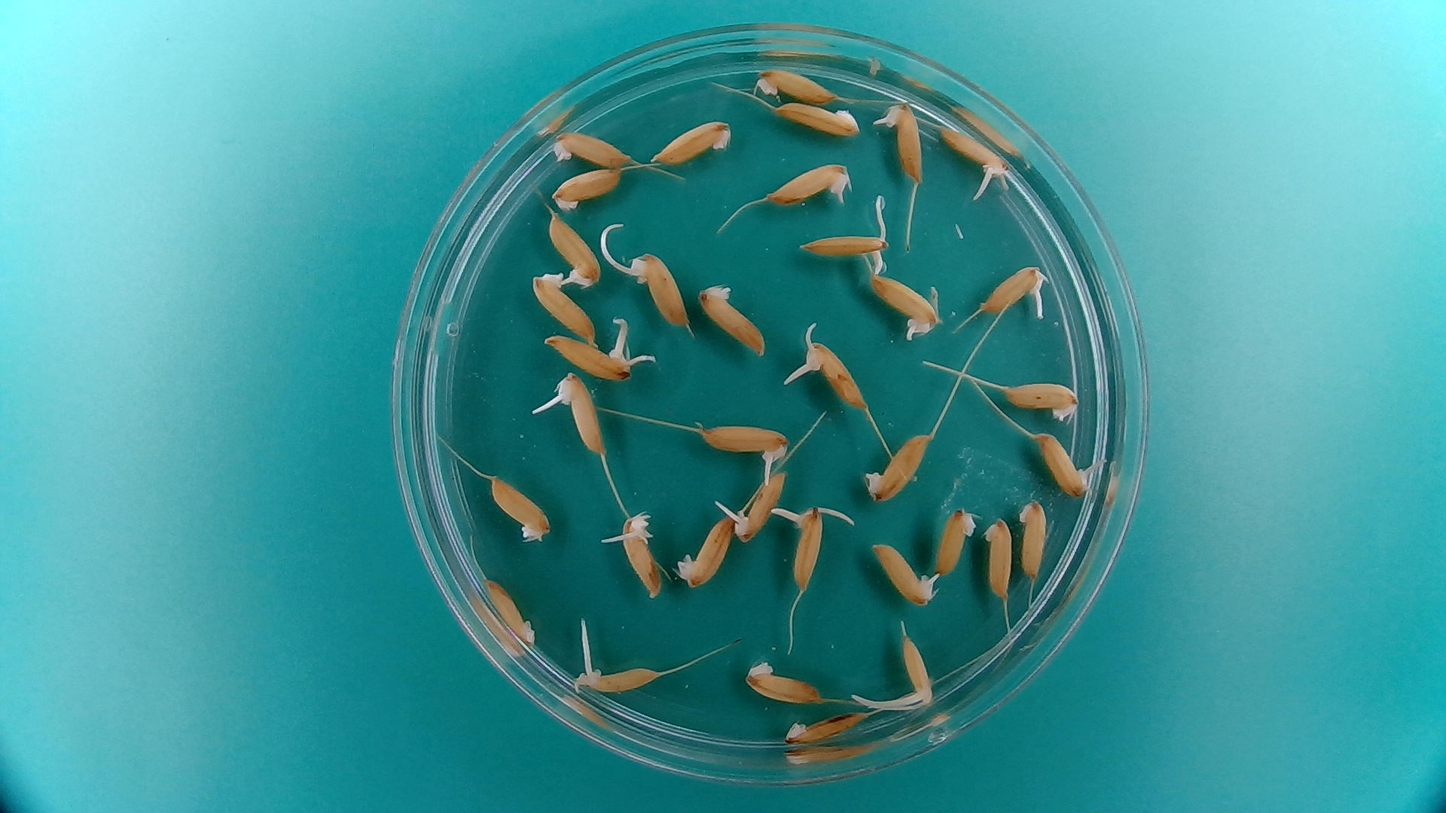no: (694, 279, 770, 358), (861, 428, 935, 504), (527, 269, 598, 343), (486, 473, 553, 543), (676, 513, 735, 591), (649, 115, 736, 166), (481, 574, 538, 647), (752, 63, 842, 106), (999, 376, 1082, 422), (548, 165, 627, 213), (547, 126, 633, 169), (771, 99, 862, 138), (782, 708, 869, 746), (742, 665, 823, 705), (935, 506, 977, 576), (982, 514, 1014, 600), (1017, 497, 1048, 583)
yes: (865, 267, 944, 336), (802, 340, 870, 414), (628, 254, 694, 330), (869, 538, 940, 608), (695, 419, 792, 470), (761, 158, 853, 210), (541, 332, 640, 380), (547, 209, 606, 288), (729, 467, 790, 543), (876, 95, 927, 185), (1032, 429, 1097, 498), (785, 501, 832, 595), (977, 261, 1053, 317), (934, 123, 1007, 179), (558, 369, 606, 454), (617, 515, 662, 601), (581, 661, 663, 696), (898, 637, 932, 711), (804, 231, 890, 257)
